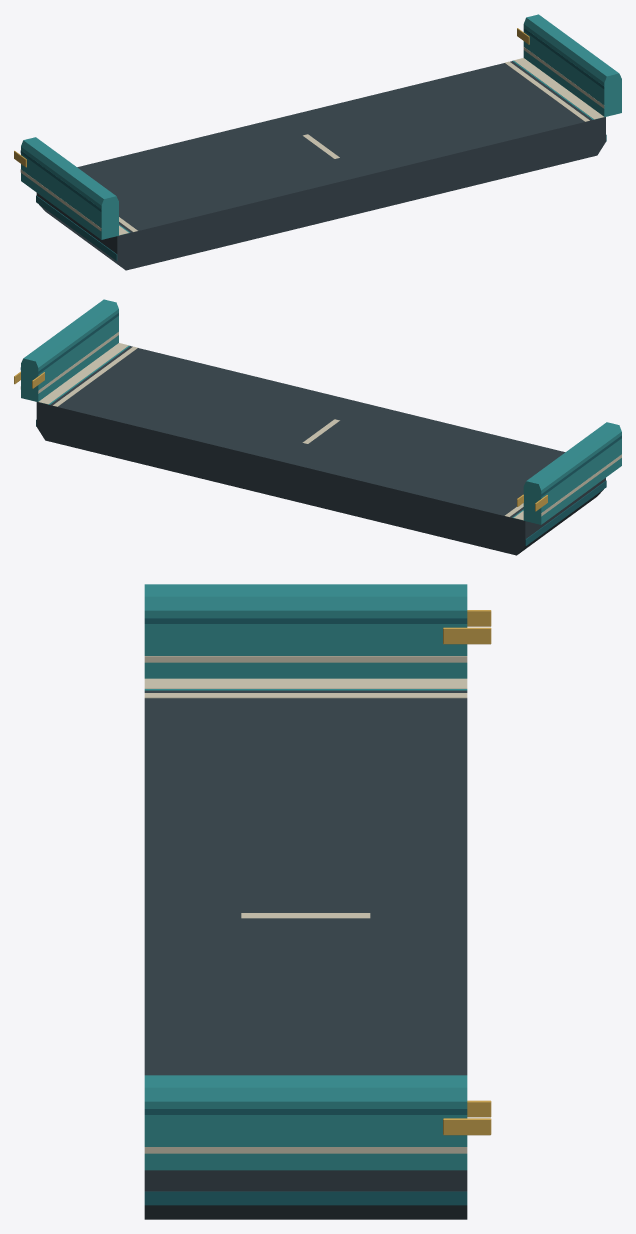
The model's file is track_straight_01.glb.
3 views of the same model, one above another, from view 1: azimuth 30°, elevation 25°; view 2: azimuth 150°, elevation 25°; view 3: azimuth 270°, elevation 25° (orthographic). The views are drawn at different scales.
Visible parts, largest first — view 1: track_straight_01__Surface, track_straight_01__RailLeft, track_straight_01__RailRight; view 2: track_straight_01__Surface, track_straight_01__RailLeft, track_straight_01__RailRight; view 3: track_straight_01__Surface, track_straight_01__RailRight, track_straight_01__RailLeft.
Part boxes in pixels (bbox=[...]): track_straight_01__Surface: bbox=[36, 58, 606, 270]; track_straight_01__RailLeft: bbox=[14, 137, 118, 239]; track_straight_01__RailRight: bbox=[517, 14, 621, 117]; track_straight_01__Surface: bbox=[36, 343, 606, 555]; track_straight_01__RailLeft: bbox=[517, 422, 621, 524]; track_straight_01__RailRight: bbox=[14, 299, 118, 401]; track_straight_01__Surface: bbox=[144, 678, 467, 1219]; track_straight_01__RailRight: bbox=[144, 1075, 491, 1170]; track_straight_01__RailLeft: bbox=[144, 584, 491, 678].
Size of the model in its own units: 14.95 by 2.1 by 4.3.
